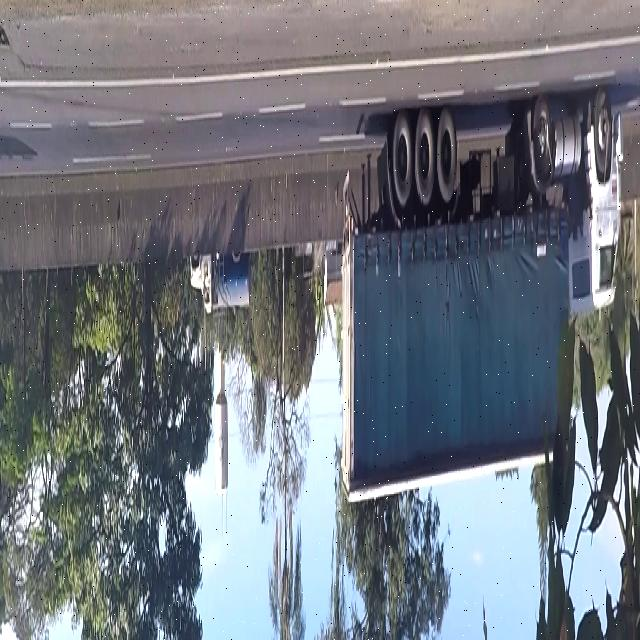-axle: (592, 82, 616, 174), (393, 101, 411, 213), (436, 108, 456, 204), (534, 94, 554, 183), (415, 115, 434, 199)
